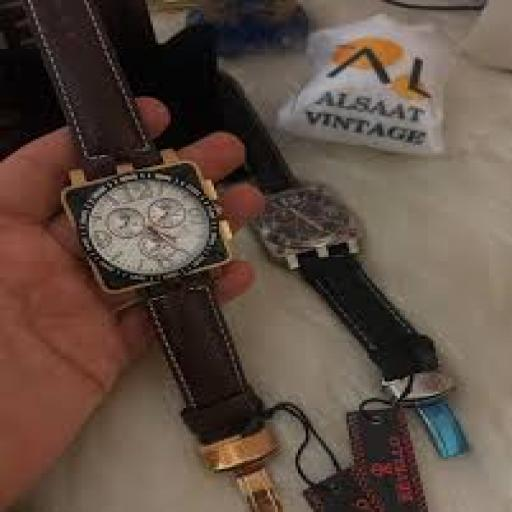KolSaati: (17, 2, 292, 496)
